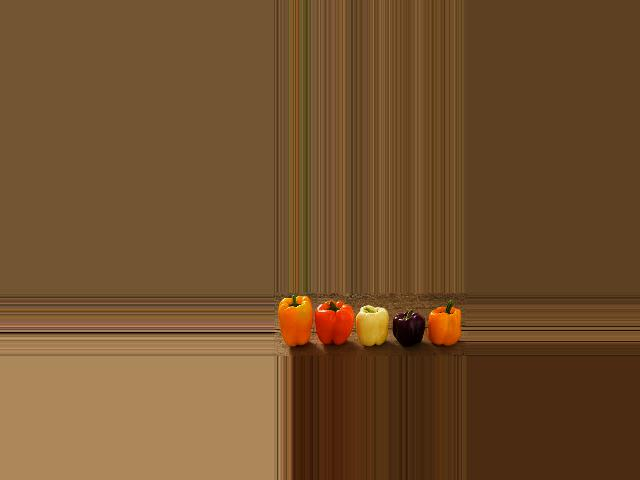bell_pepper: (431, 298, 464, 354)
